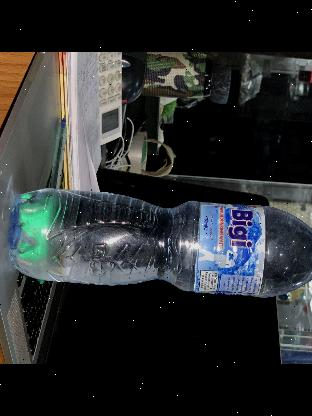Plastic Bottle: (7, 188, 312, 298)
